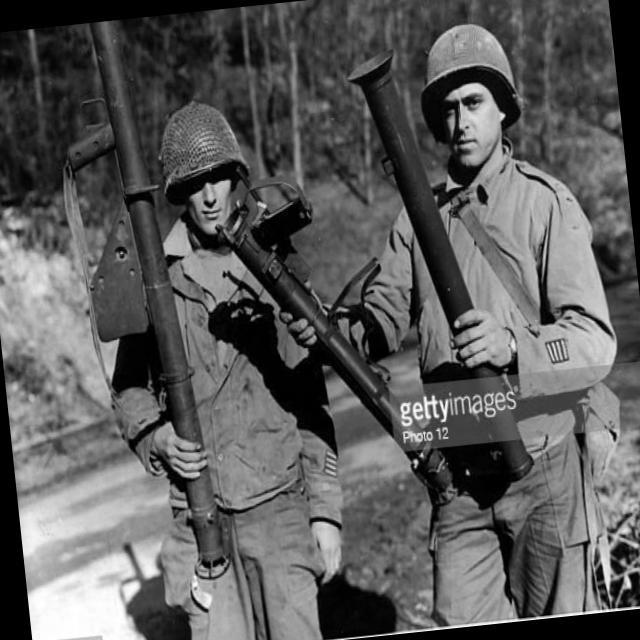rocket: (351, 35, 530, 483)
